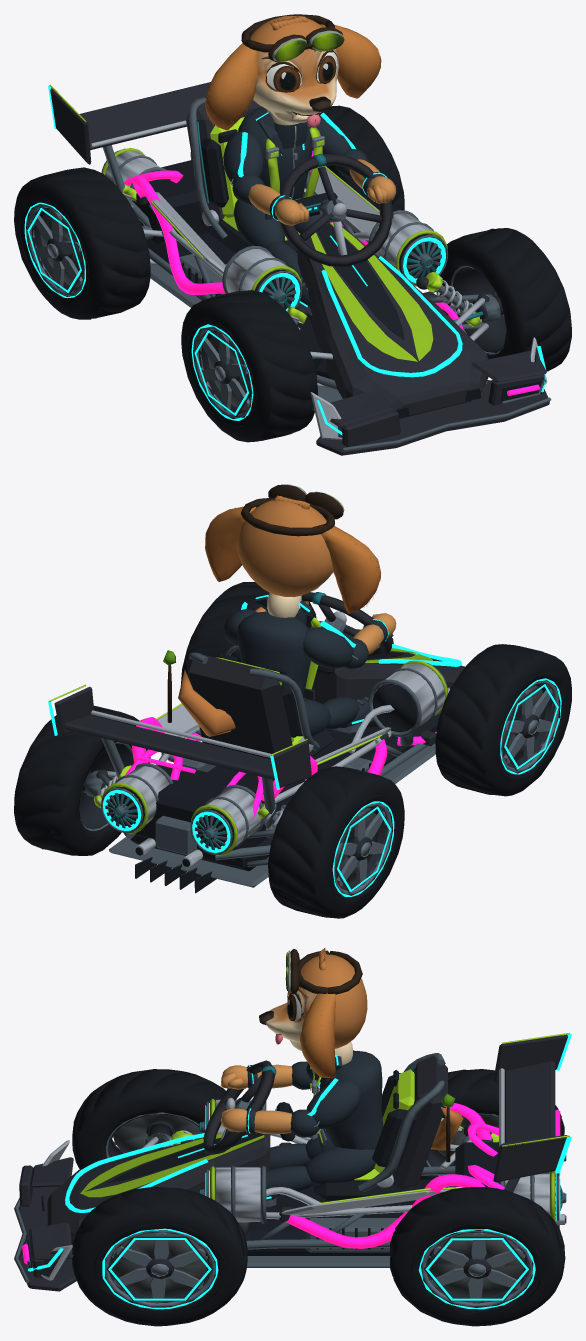
The model's file is dog-lod.glb.
3 renders of one model, top to bottom at view 1: azimuth 30°, elevation 25°; view 2: azimuth 150°, elevation 25°; view 3: azimuth 270°, elevation 25°, orthographic. The views are drawn at different scales.
Visible parts, largest first — view 1: body_face_glass, body_face_eye, body_face_matte, wheel_rl_matte, wheel_fl_matte, wheel_fr_matte, wheel_fl_metal, body_signal, wheel_rl_metal, wheel_rr_matte, body_accent, wheel_fr_metal (+2 smaller); view 2: body_face_glass, body_face_matte, wheel_fl_matte, wheel_rl_matte, body_face_eye, wheel_rr_matte, wheel_rl_metal, wheel_fl_metal, wheel_fr_matte, body_signal, body_accent, wheel_rr_metal (+2 smaller); view 3: body_face_glass, body_face_eye, wheel_rr_matte, wheel_fr_matte, body_face_matte, wheel_fl_matte, wheel_rr_metal, wheel_fr_metal, body_accent, body_signal, wheel_fl_metal, wheel_rl_matte (+3 smaller).
Part boxes in pixels (x1,y1,x2,y2): body_face_glass: (50, 33, 551, 455); body_face_eye: (49, 52, 481, 326); body_face_matte: (205, 14, 396, 225); wheel_rl_matte: (14, 167, 150, 319); wheel_fl_matte: (181, 290, 317, 442); wheel_fr_matte: (436, 228, 571, 371); wheel_fl_metal: (194, 326, 252, 418); body_signal: (48, 85, 546, 435); wheel_rl_metal: (27, 204, 84, 295); wheel_rr_matte: (319, 105, 404, 233); body_accent: (123, 150, 540, 395); wheel_fr_metal: (450, 265, 506, 354); body_face_glass: (54, 493, 464, 893); body_face_matte: (167, 484, 396, 736); wheel_fl_matte: (435, 644, 571, 796); wheel_rl_matte: (268, 766, 404, 918); body_face_eye: (49, 592, 392, 818); wheel_rr_matte: (14, 705, 150, 855); wheel_rl_metal: (334, 803, 392, 894); wheel_fl_metal: (501, 681, 559, 772); wheel_fr_matte: (180, 582, 316, 685); body_signal: (48, 595, 462, 852); body_accent: (125, 717, 436, 818); wheel_rr_metal: (79, 742, 134, 831); body_face_glass: (14, 952, 567, 1291); body_face_eye: (170, 993, 569, 1208); wheel_rr_matte: (389, 1187, 565, 1326); wheel_fr_matte: (72, 1187, 247, 1326); body_face_matte: (220, 948, 463, 1162); wheel_fl_matte: (72, 1069, 225, 1169); wheel_rr_metal: (422, 1230, 532, 1307); wheel_fr_metal: (105, 1230, 214, 1307); body_accent: (22, 1103, 560, 1264); body_signal: (28, 1033, 571, 1271); wheel_fl_metal: (105, 1112, 203, 1158); wheel_rl_matte: (420, 1069, 564, 1179).
Size of the model in its own units: 2.21 by 2.14 by 3.57.
